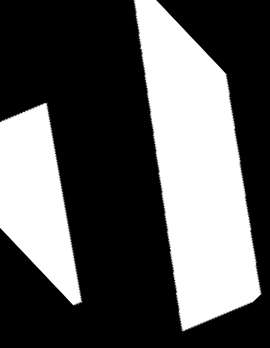parkingspot: (134, 0, 262, 331), (0, 103, 82, 305)
